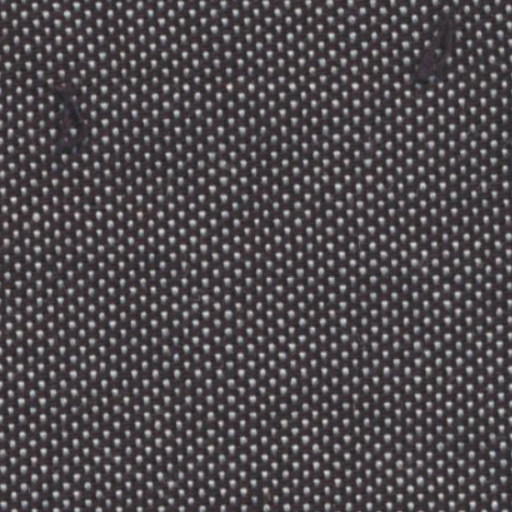DuanSha: (400, 10, 472, 106), (36, 68, 100, 166)
